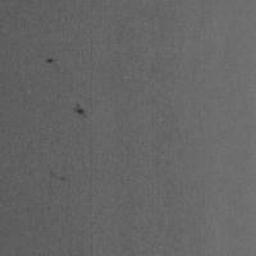Inclusion: (76, 104, 86, 114), (44, 56, 55, 64)
